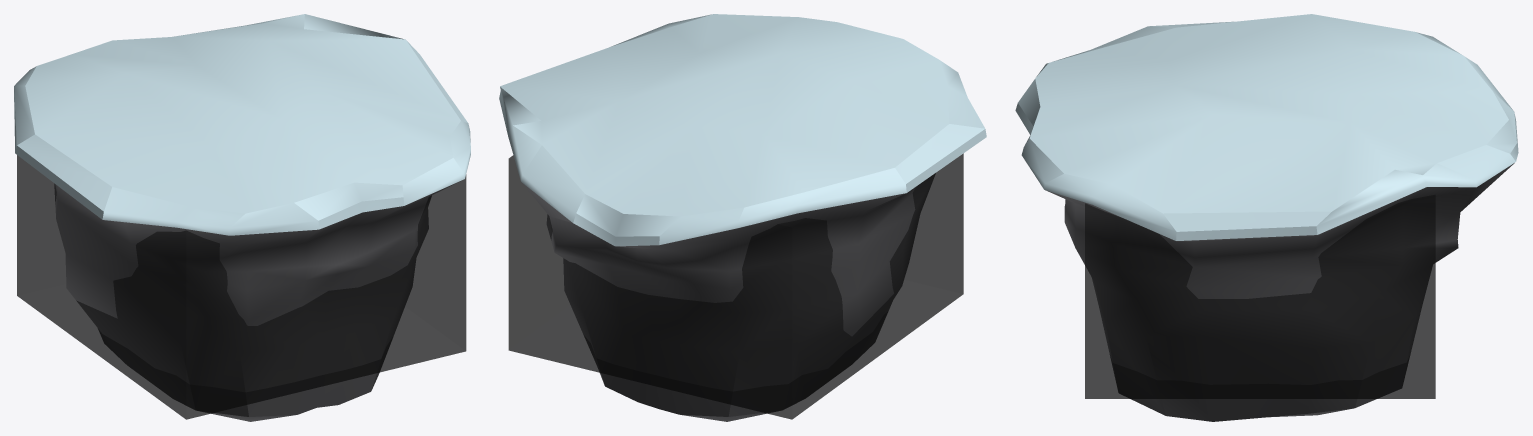
The model's file is Cliffside_1.fbx.
3 views of the same model, side by side, from view 1: azimuth 30°, elevation 25°; view 2: azimuth 150°, elevation 25°; view 3: azimuth 270°, elevation 25° (orthographic). The views are drawn at different scales.
Parts seen in each view (by area): view 1: Cliffside_1, Cliffside_1_BBox; view 2: Cliffside_1, Cliffside_1_BBox; view 3: Cliffside_1, Cliffside_1_BBox.
Part boxes in pixels (left/top/right/bottom): Cliffside_1: left=14, top=14, right=470, bottom=421; Cliffside_1_BBox: left=17, top=155, right=466, bottom=419; Cliffside_1: left=499, top=14, right=986, bottom=421; Cliffside_1_BBox: left=508, top=153, right=963, bottom=419; Cliffside_1: left=1015, top=14, right=1518, bottom=421; Cliffside_1_BBox: left=1085, top=195, right=1435, bottom=398.
Bounding box in the file's own units: 26.04 × 19.01 × 27.14.
